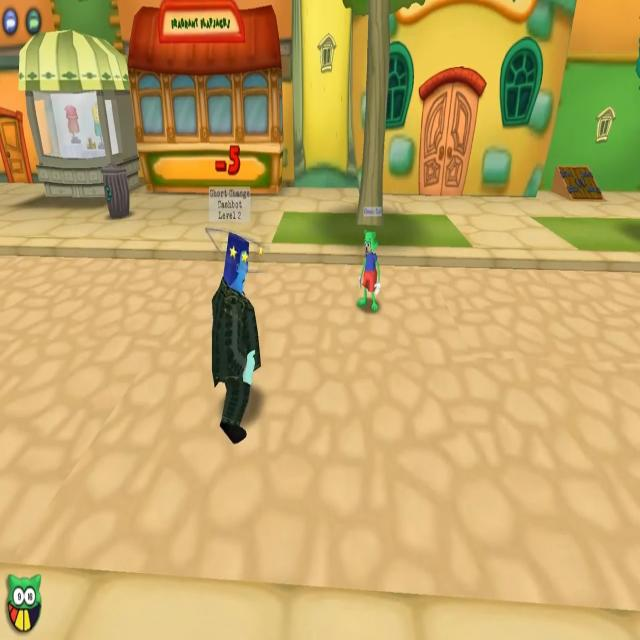shortchange: (206, 183, 264, 448)
